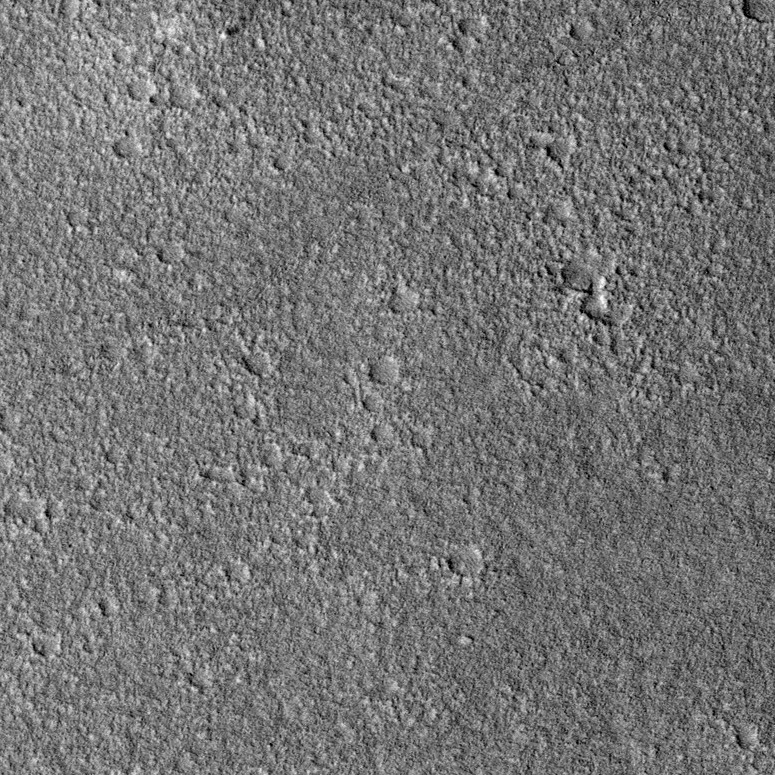dust_devil: (216, 3, 255, 43)
